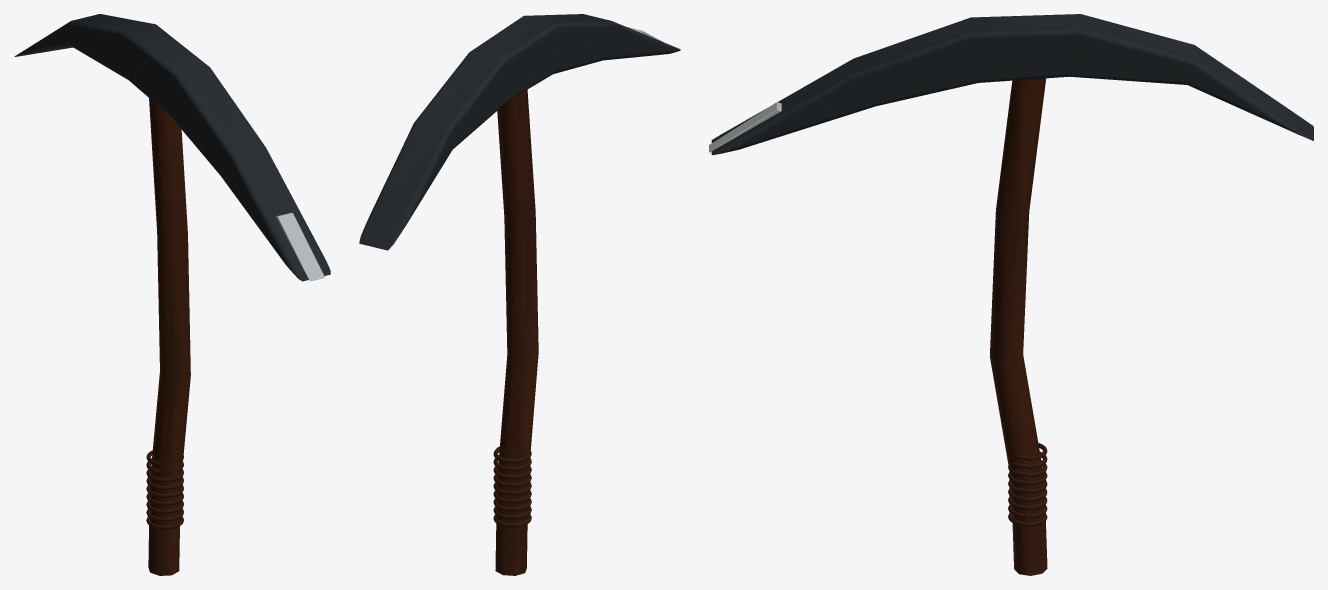
File: Pickaxe.fbx
3 views of the same model, side by side, from view 1: azimuth 30°, elevation 25°; view 2: azimuth 150°, elevation 25°; view 3: azimuth 270°, elevation 25° (orthographic). The views are drawn at different scales.
Parts seen in each view (by area): view 1: PickaxeBody; view 2: PickaxeBody; view 3: PickaxeBody.
Boxes of the visible parts, <box> form: PickaxeBody: <box>14,14,330,575</box>; PickaxeBody: <box>359,14,680,575</box>; PickaxeBody: <box>709,14,1313,575</box>.
Bounding box in the file's own units: 5.8 × 79.57 × 79.61.
4 materials, 3 textured.
